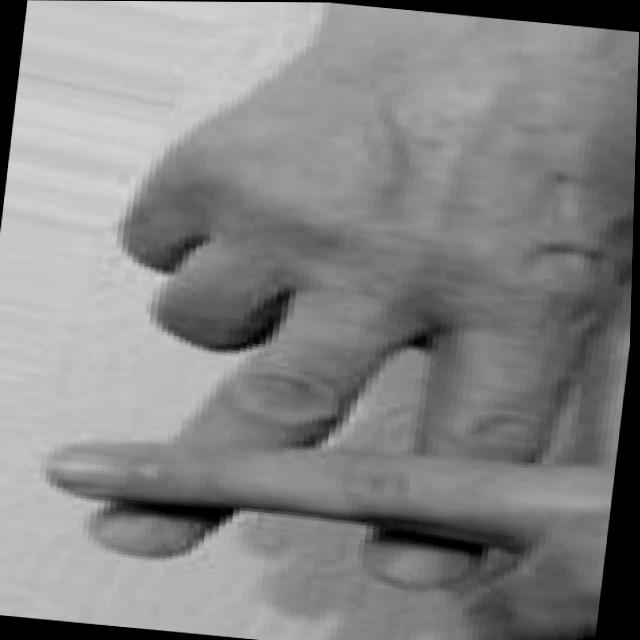A: (22, 0, 640, 640)
